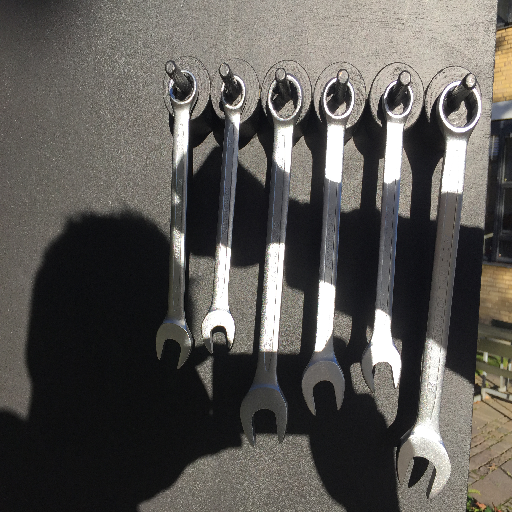bottom: (394, 424, 450, 500), (239, 385, 288, 448), (300, 360, 346, 417), (359, 337, 403, 394), (154, 316, 194, 373), (199, 307, 237, 356)
top: (435, 78, 481, 135), (267, 74, 303, 124), (321, 77, 356, 124), (380, 79, 414, 121), (167, 68, 200, 111), (220, 74, 247, 112)
